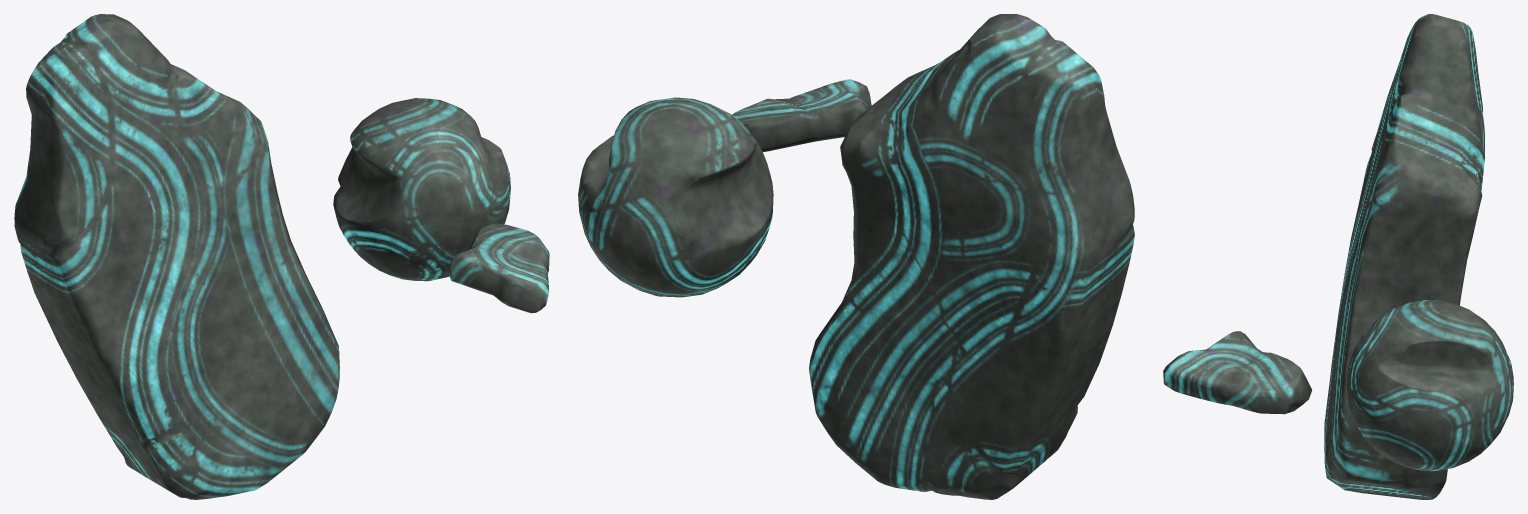
File: caos_stl_rubble_01b_v35.glb
3 views of the same model, side by side, from view 1: azimuth 30°, elevation 25°; view 2: azimuth 150°, elevation 25°; view 3: azimuth 270°, elevation 25° (orthographic). The views are drawn at different scales.
Visible parts, largest first — view 1: caos_stl_rubble_01b; view 2: caos_stl_rubble_01b; view 3: caos_stl_rubble_01b.
Part boxes in pixels (box(x1,y1,x2,y2)): caos_stl_rubble_01b: box(14, 14, 549, 499); caos_stl_rubble_01b: box(578, 14, 1134, 499); caos_stl_rubble_01b: box(1163, 14, 1513, 499).
Size of the model in its own units: 7.02 by 6.51 by 4.81.
Materials: 1 (1 with a texture image).
